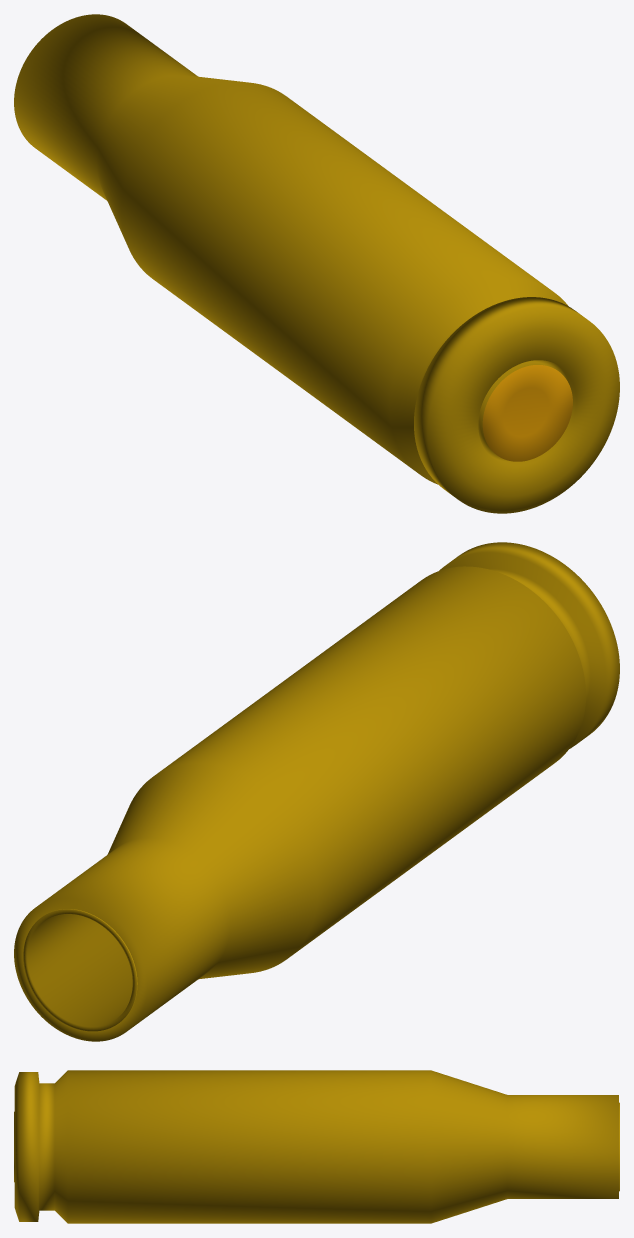
The model's file is 5_56Casing.fbx.
3 views of the same model, one above another, from view 1: azimuth 30°, elevation 25°; view 2: azimuth 150°, elevation 25°; view 3: azimuth 270°, elevation 25° (orthographic). The views are drawn at different scales.
Visible parts, largest first — view 1: Cylinder; view 2: Cylinder; view 3: Cylinder.
Boxes of the visible parts, left/top/right/bottom form: Cylinder: left=14, top=14, right=619, bottom=513; Cylinder: left=14, top=542, right=619, bottom=1041; Cylinder: left=14, top=1070, right=619, bottom=1223.
Bounding box in the file's own units: 81.82 × 81.82 × 324.
